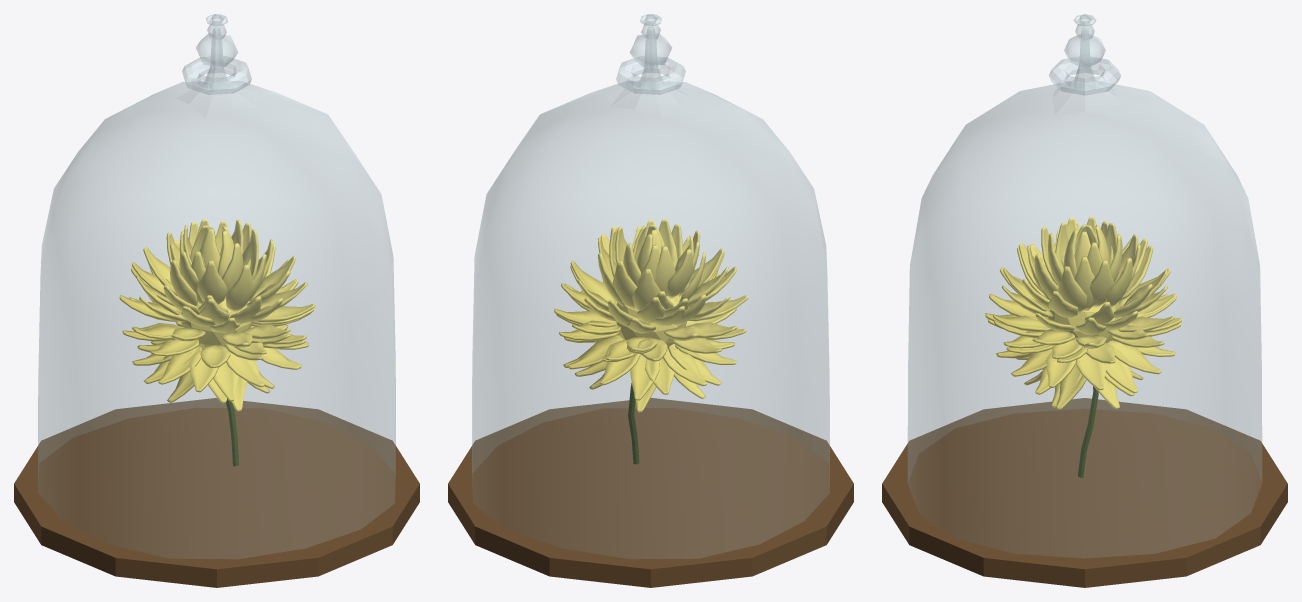
Rendered from yellow_flower.glb.
3 renders of one model, left to right at view 1: azimuth 30°, elevation 25°; view 2: azimuth 150°, elevation 25°; view 3: azimuth 270°, elevation 25°, orthographic.
Parts seen in each view (by area): view 1: case_main, case_base, Plane.006, case_deco_torus_bottom, case_deco_sphere_bottom; view 2: case_main, case_base, Plane.006, case_deco_torus_bottom, case_deco_sphere_bottom; view 3: case_main, case_base, Plane.006, case_deco_torus_bottom, case_deco_sphere_bottom, flower_stem.
Boxes of the visible parts, x1=… form: case_main: x1=38, y1=26, x2=395, y2=558; case_base: x1=14, y1=398, x2=419, y2=587; Plane.006: x1=119, y1=219, x2=315, y2=411; case_deco_torus_bottom: x1=182, y1=56, x2=251, y2=94; case_deco_sphere_bottom: x1=196, y1=33, x2=237, y2=66; case_main: x1=472, y1=26, x2=829, y2=558; case_base: x1=448, y1=398, x2=853, y2=587; Plane.006: x1=554, y1=219, x2=748, y2=412; case_deco_torus_bottom: x1=616, y1=56, x2=685, y2=94; case_deco_sphere_bottom: x1=630, y1=33, x2=671, y2=66; case_main: x1=908, y1=26, x2=1261, y2=557; case_base: x1=882, y1=398, x2=1287, y2=587; Plane.006: x1=985, y1=216, x2=1181, y2=410; case_deco_torus_bottom: x1=1049, y1=57, x2=1120, y2=95; case_deco_sphere_bottom: x1=1064, y1=34, x2=1105, y2=67; flower_stem: x1=1078, y1=386, x2=1098, y2=477.
Size of the model in its own units: 10.79 by 14.32 by 10.79.
